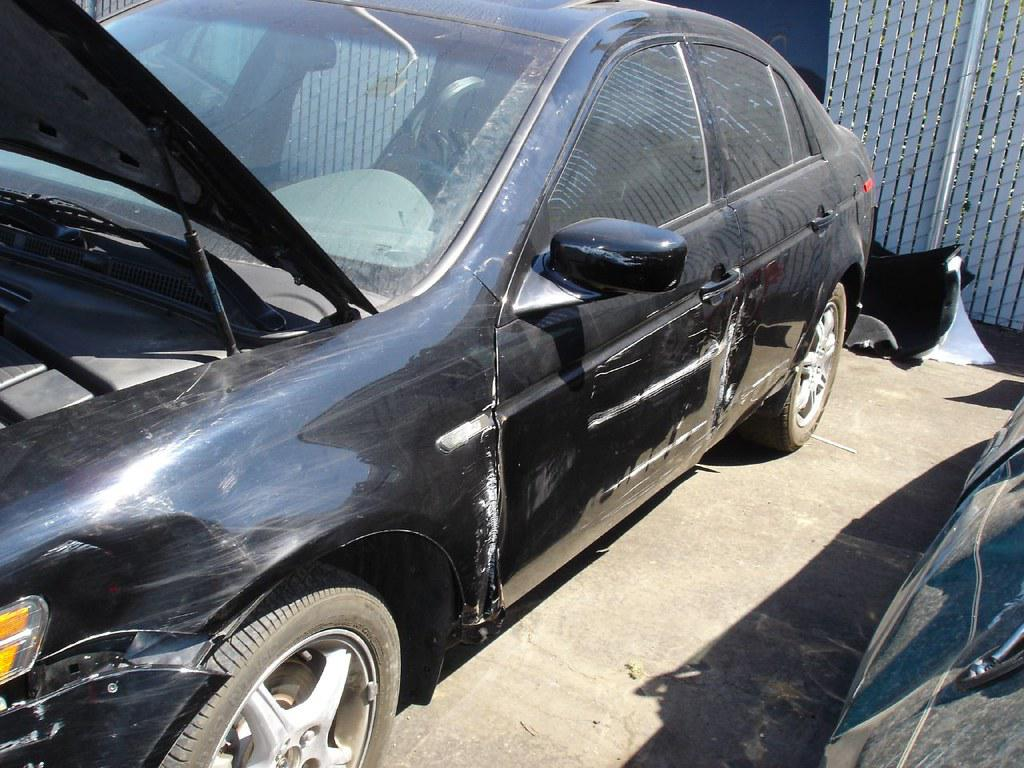fender-dent: (61, 380, 513, 767)
